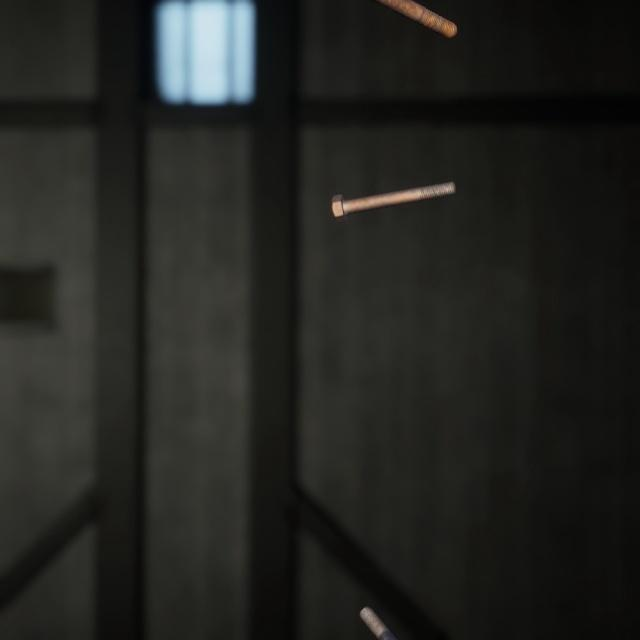bolt: (327, 163, 460, 213), (355, 579, 421, 640), (378, 0, 461, 36)
